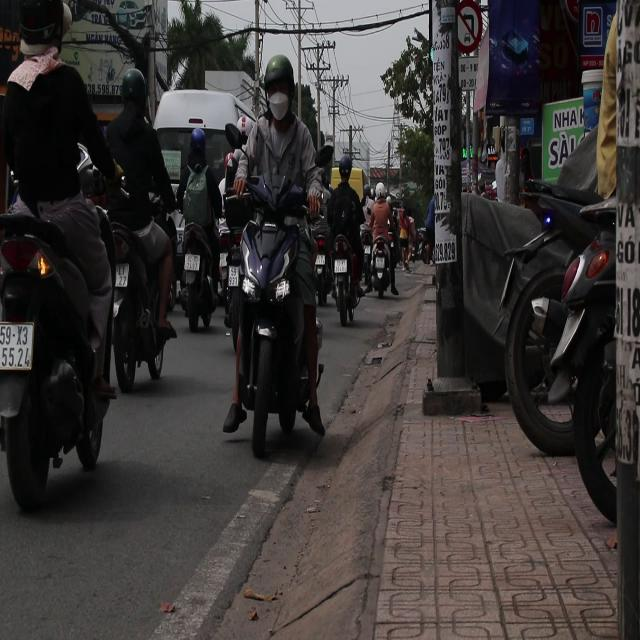car: (153, 80, 264, 280)
motorbike: (0, 192, 112, 500), (222, 149, 324, 462), (90, 202, 182, 428), (167, 206, 221, 362), (328, 165, 364, 353), (211, 200, 252, 358), (363, 193, 395, 312), (311, 194, 338, 316)
